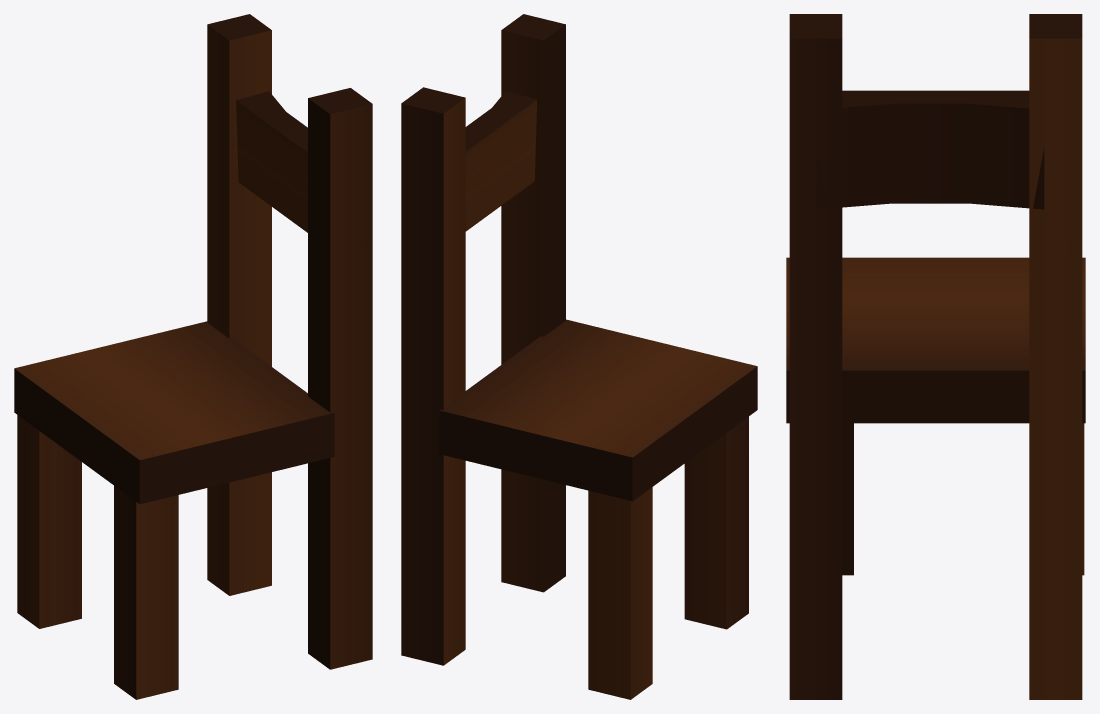
Rendered from sillacontextura.fbx.
3 views of the same model, side by side, from view 1: azimuth 30°, elevation 25°; view 2: azimuth 150°, elevation 25°; view 3: azimuth 270°, elevation 25° (orthographic). The views are drawn at different scales.
Parts seen in each view (by area): view 1: pCube4; view 2: pCube4; view 3: pCube4.
Part boxes in pixels (x1,y1,x2,y2): pCube4: (14, 14, 372, 699); pCube4: (401, 14, 757, 699); pCube4: (786, 14, 1085, 699).
Size of the model in its own units: 233 by 525 by 215.
Materials: 1 (1 with a texture image).
